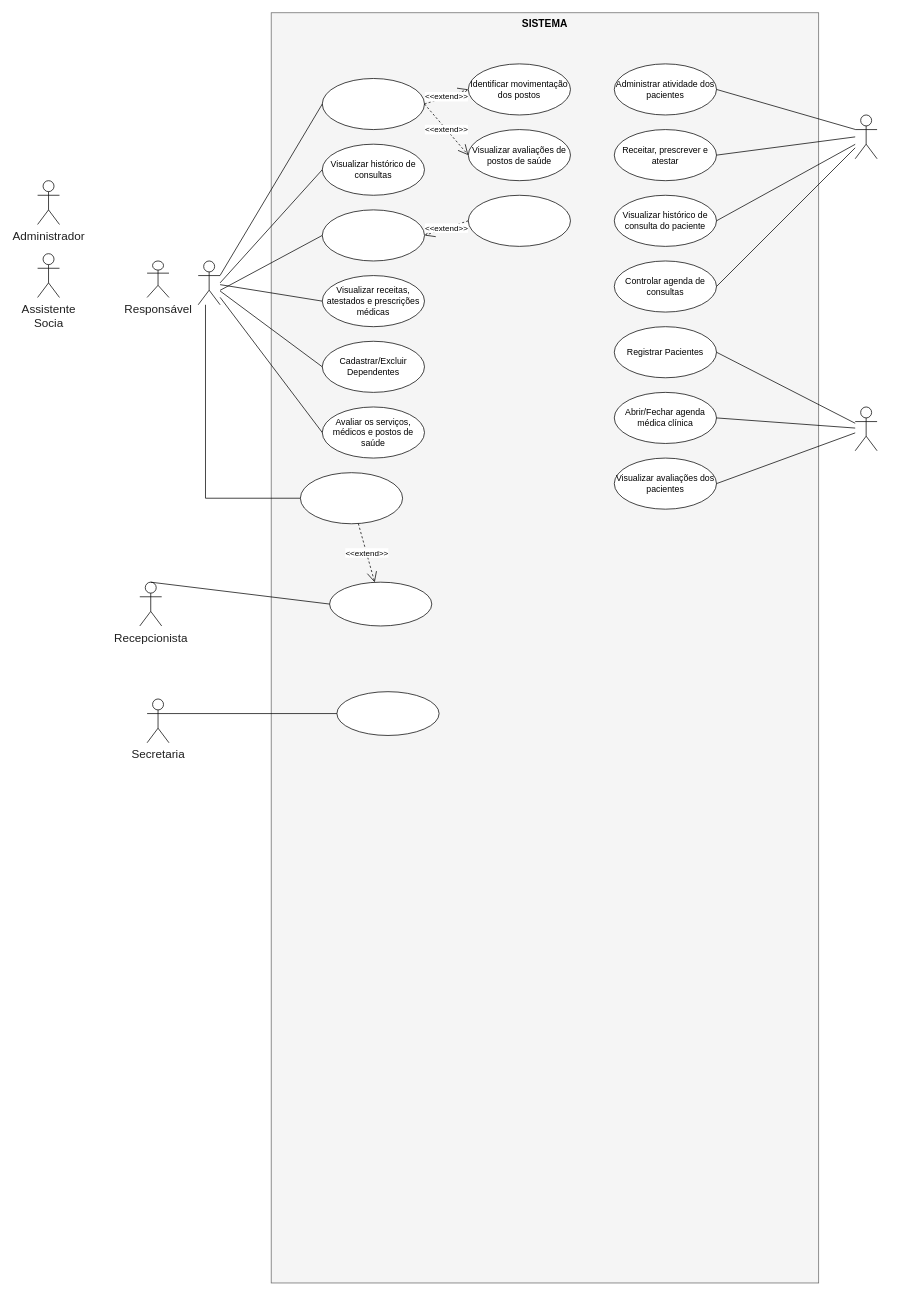
Image size: 914x1296. Some labels were removed from this diagram. Each missing label, with the centre of its shape:
Agendar/Cancelar Consultas: the point at 380,603
Coordenação: the point at 865,428
matrícula do paciente: the point at 387,713
Médico: the point at 865,136
Paciente: the point at 208,282
Solicitar Cancelar Consultas: the point at 351,498
Solicitar renovação de receita médica: the point at 519,220
Visualizar postos próximos: the point at 373,104
Visualizar receitas, atestados e prescrições: the point at 373,235
